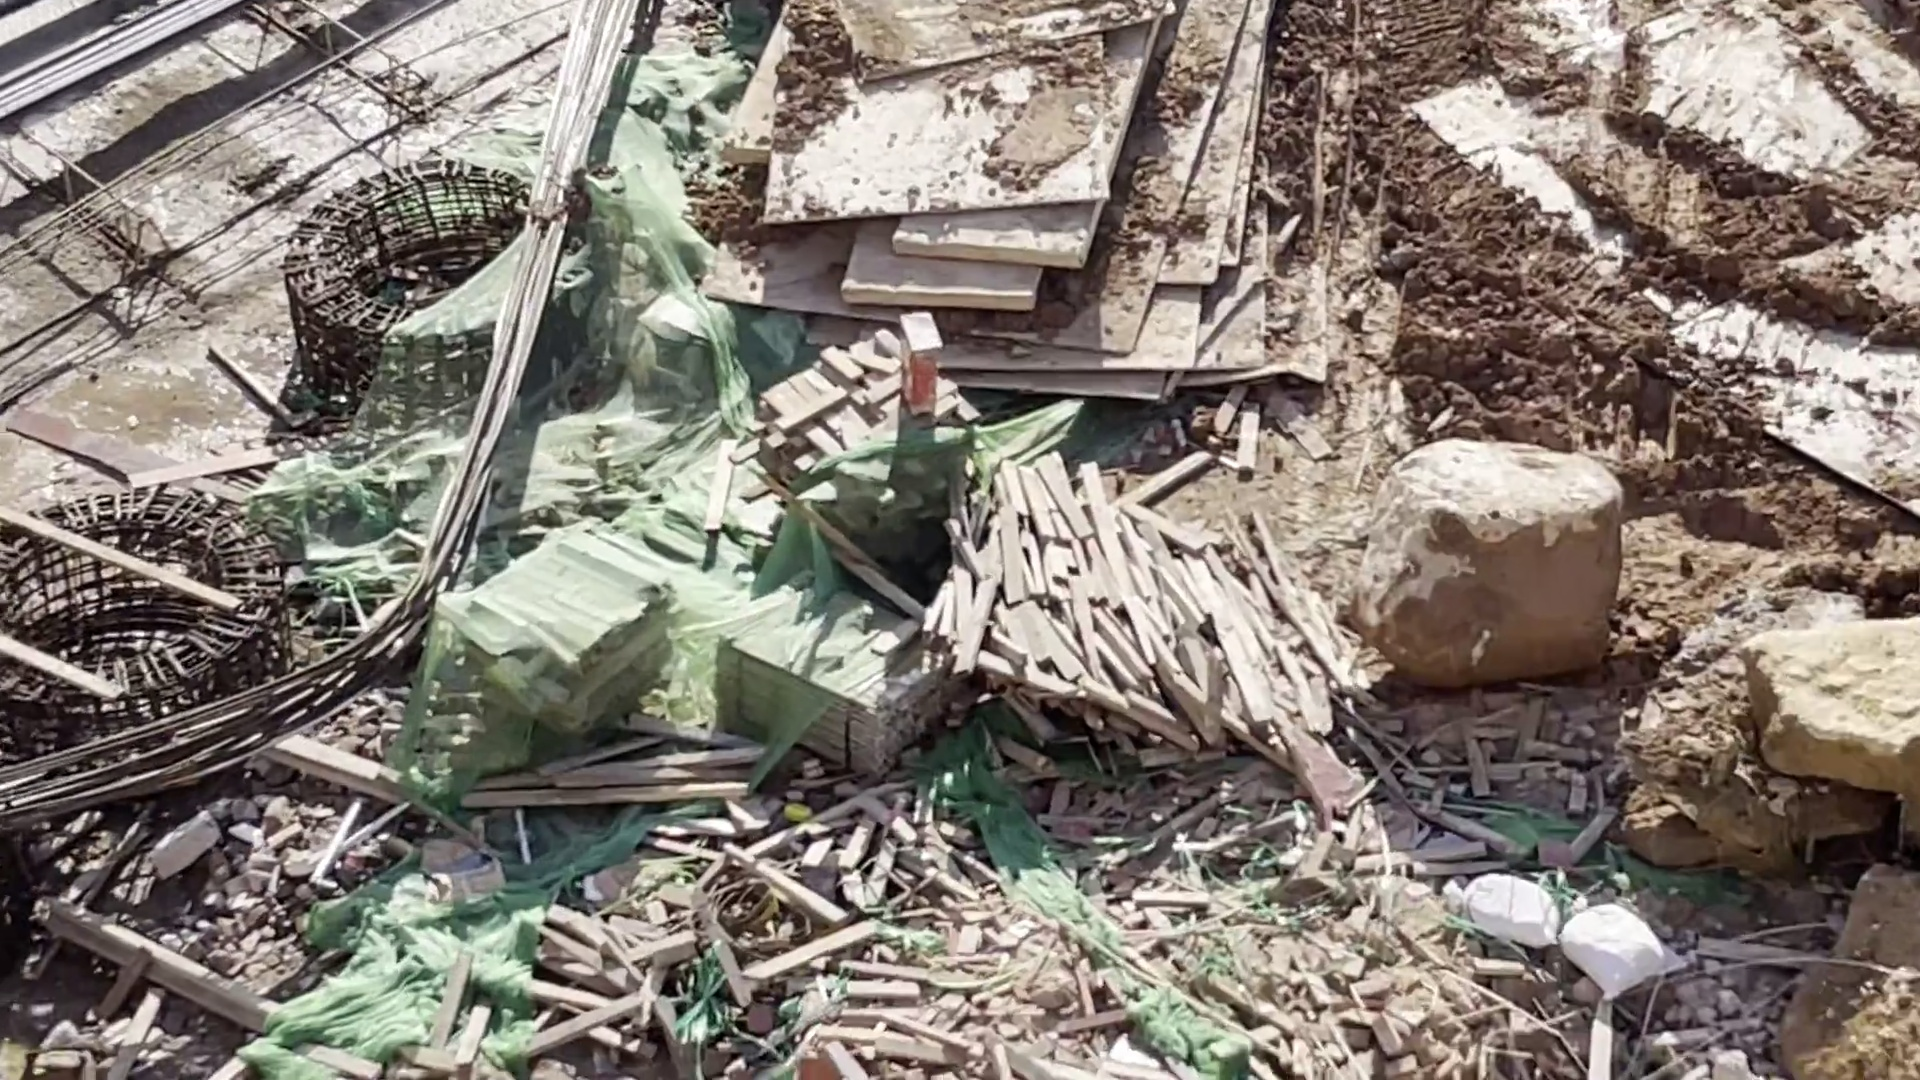board: (719, 1, 1329, 382)
rebar: (400, 1, 658, 727), (1, 1, 541, 225)
wood: (942, 468, 1332, 774), (451, 518, 665, 735), (721, 595, 955, 777)
